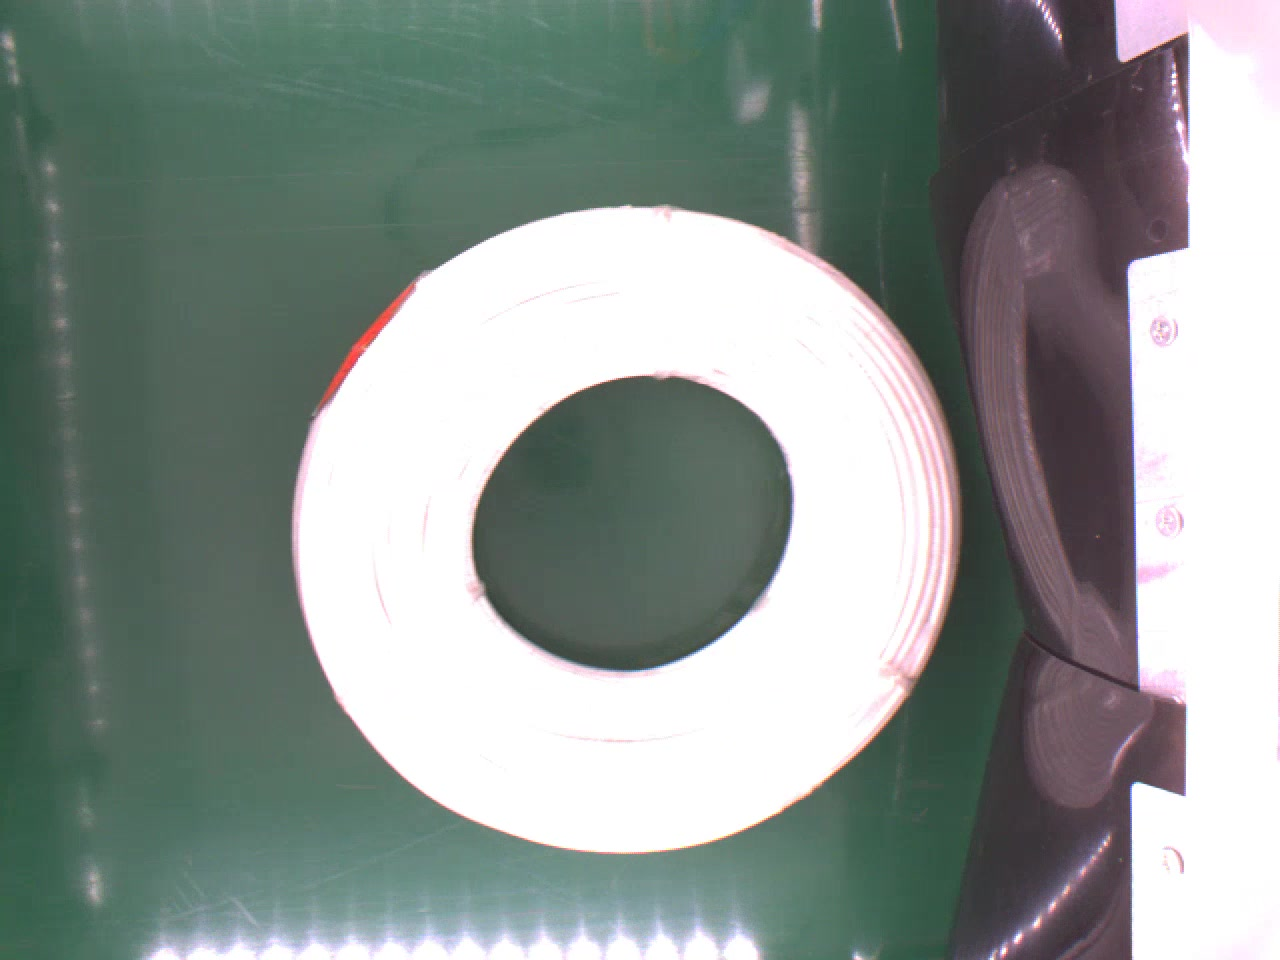white: (292, 197, 966, 859)
